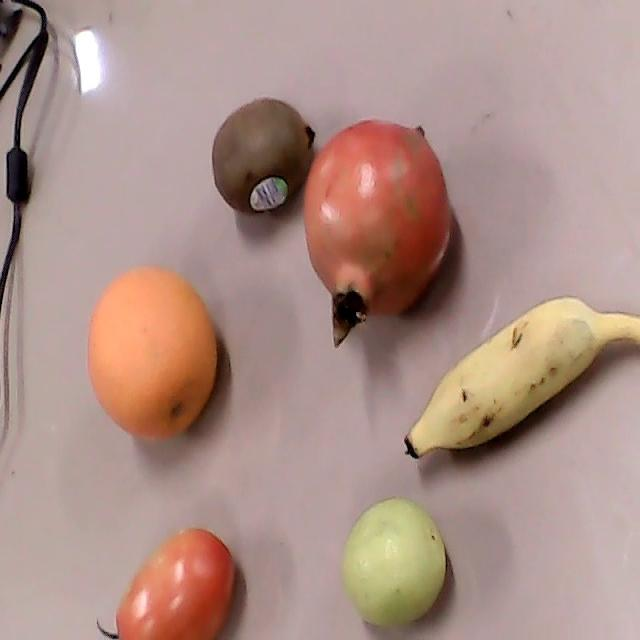kiwi: (212, 98, 316, 214)
lemon: (343, 497, 447, 626)
orange: (86, 268, 218, 441)
pomegranate: (303, 118, 450, 350)
tomato: (96, 526, 235, 639)
